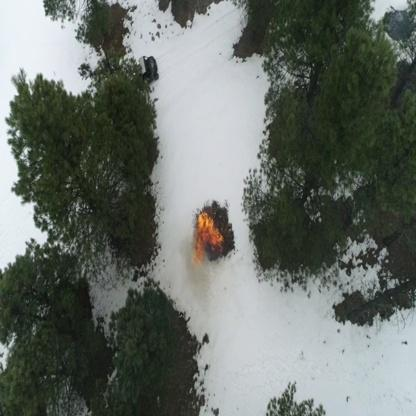Fire: (191, 210, 224, 264)
